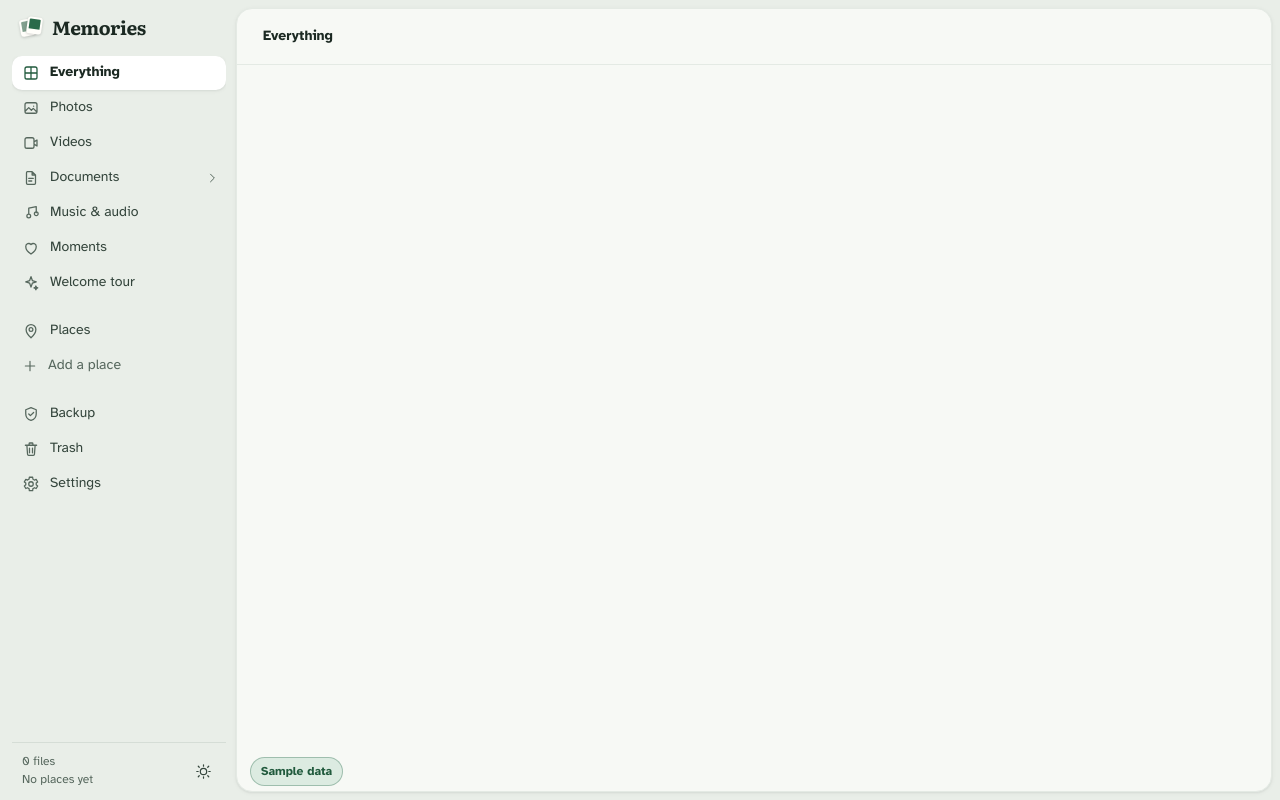
MemoriesApp › expands Documents into formats so you can open all or one kind
Expected: the button "PDF" is not shown
Click the button named "Show document formats": click(212, 178) [198,164,226,192]
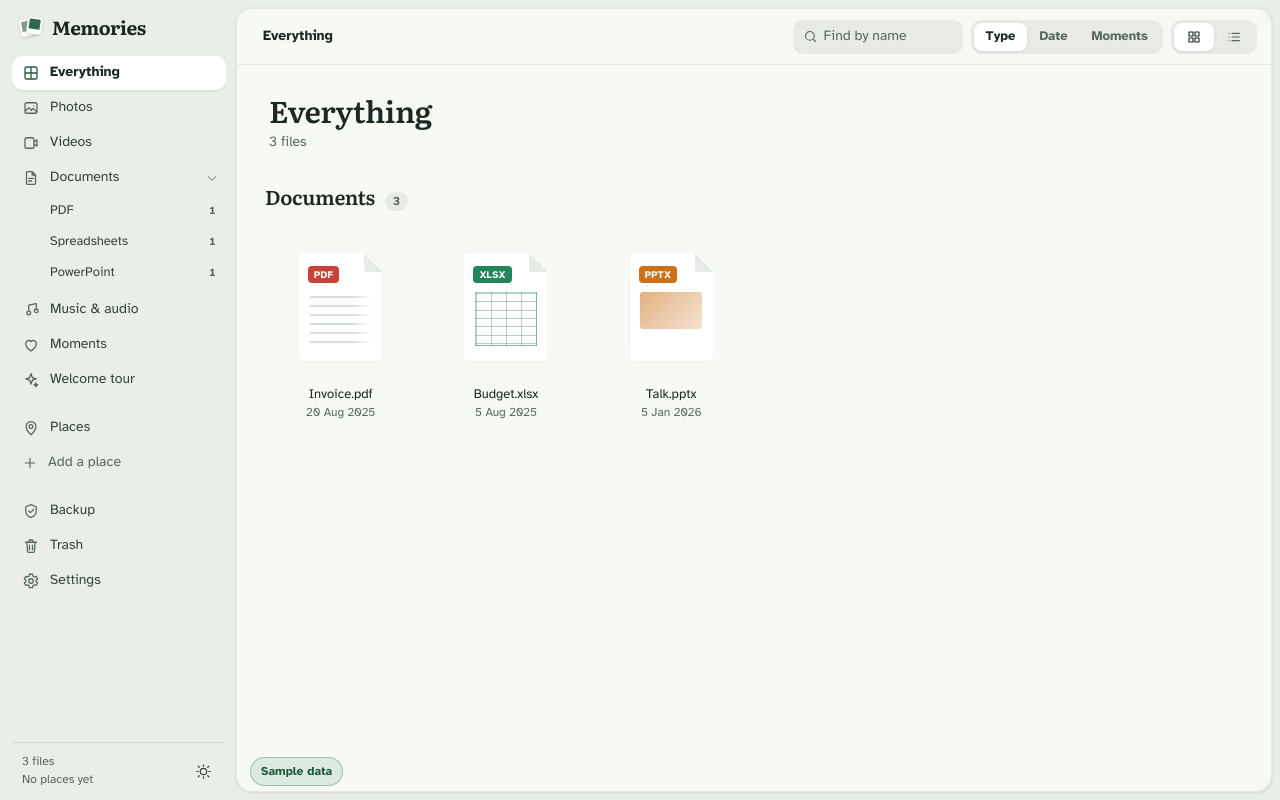
Expected: the button "PDF 1" is shown, [12,196,226,226]
Expected: the button "Spreadsheets 1" is shown, [12,226,226,256]
Expected: the button "PowerPoint 1" is shown, [12,258,226,288]
Click the button "Documents": click(104, 178) [12,160,196,194]
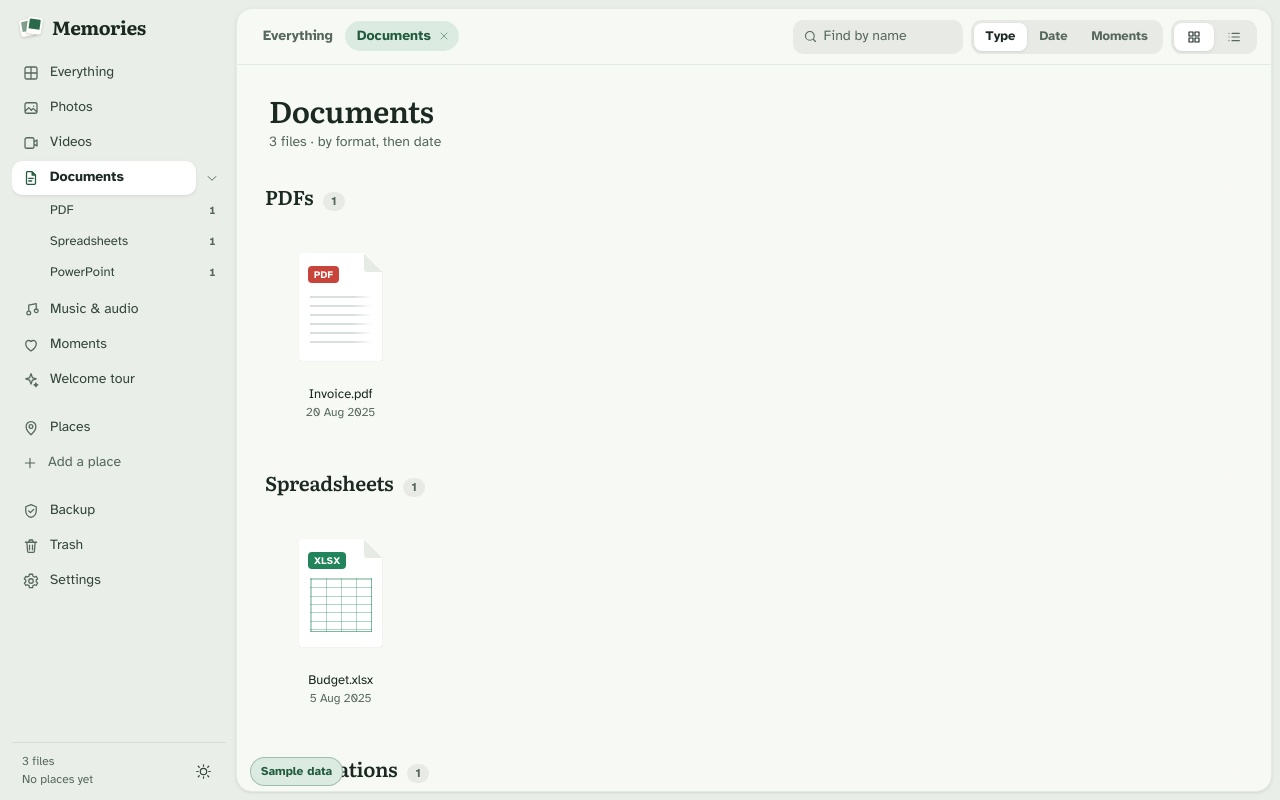
Expected: the heading "Documents" is shown, [269,88,434,132]
Expected: the text "3 files · by format, then date" is shown, [269,132,441,150]
Click the button "PDF 1": click(119, 210) [12,196,226,226]
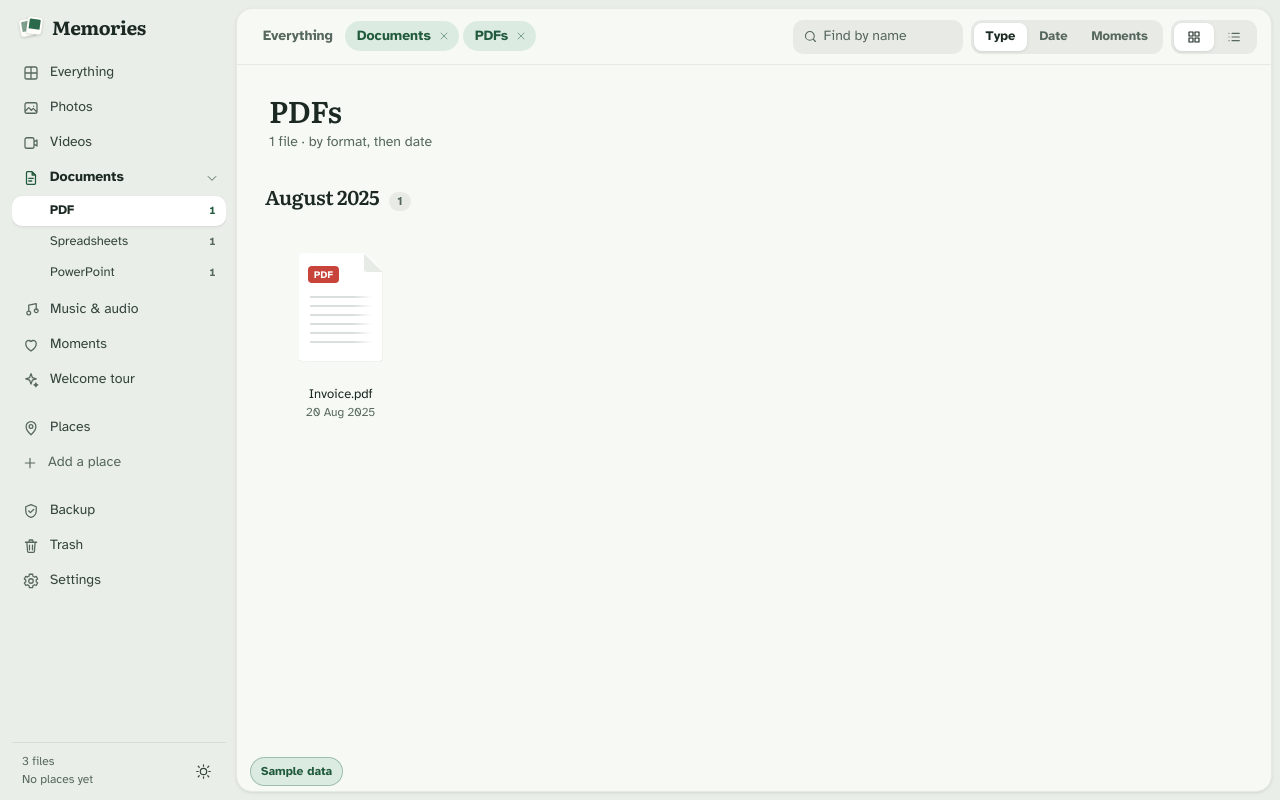
Expected: the button "PDF Invoice.pdf 20 Aug 2025" is shown, [265,231,416,430]
Expected: the heading "PDFs" is shown, [269,88,341,132]
Expected: the button "Budget.xlsx" is gone
